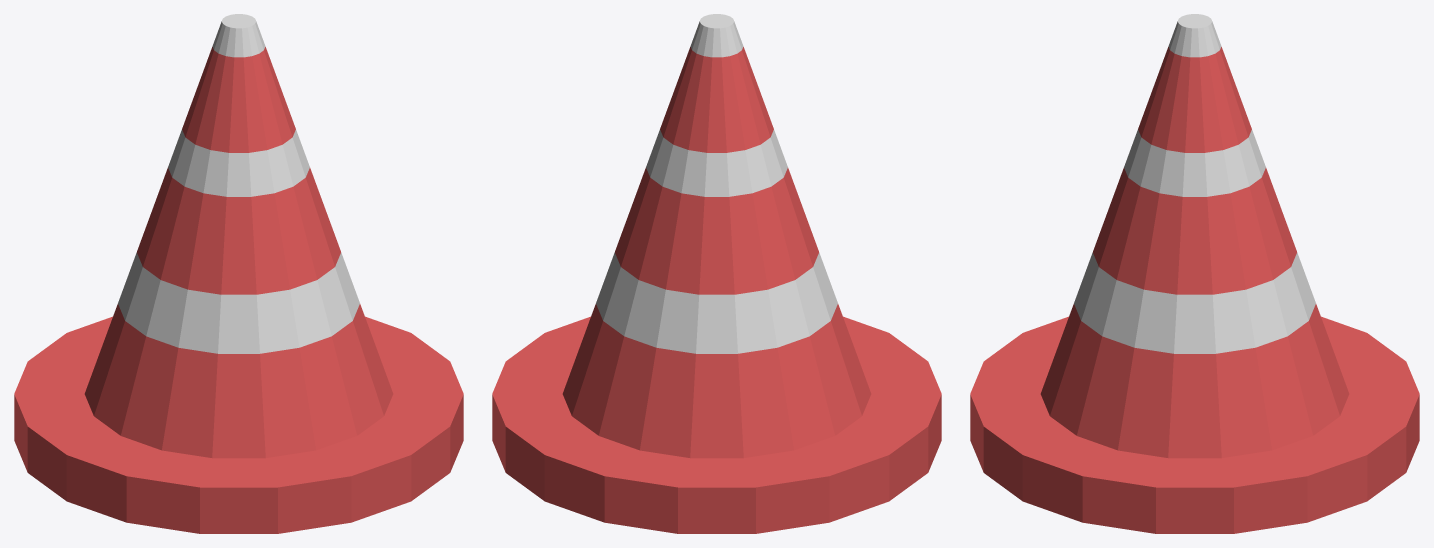
File: traffic_cone.fbx
3 views of the same model, side by side, from view 1: azimuth 30°, elevation 25°; view 2: azimuth 150°, elevation 25°; view 3: azimuth 270°, elevation 25° (orthographic).
Visible parts, largest first — view 1: Cylinder; view 2: Cylinder; view 3: Cylinder.
Boxes of the visible parts, bbox=[...] form: Cylinder: bbox=[14, 14, 463, 533]; Cylinder: bbox=[492, 14, 941, 533]; Cylinder: bbox=[970, 14, 1419, 533].
Bounding box in the file's own units: 60.26 × 62.96 × 61.19.
